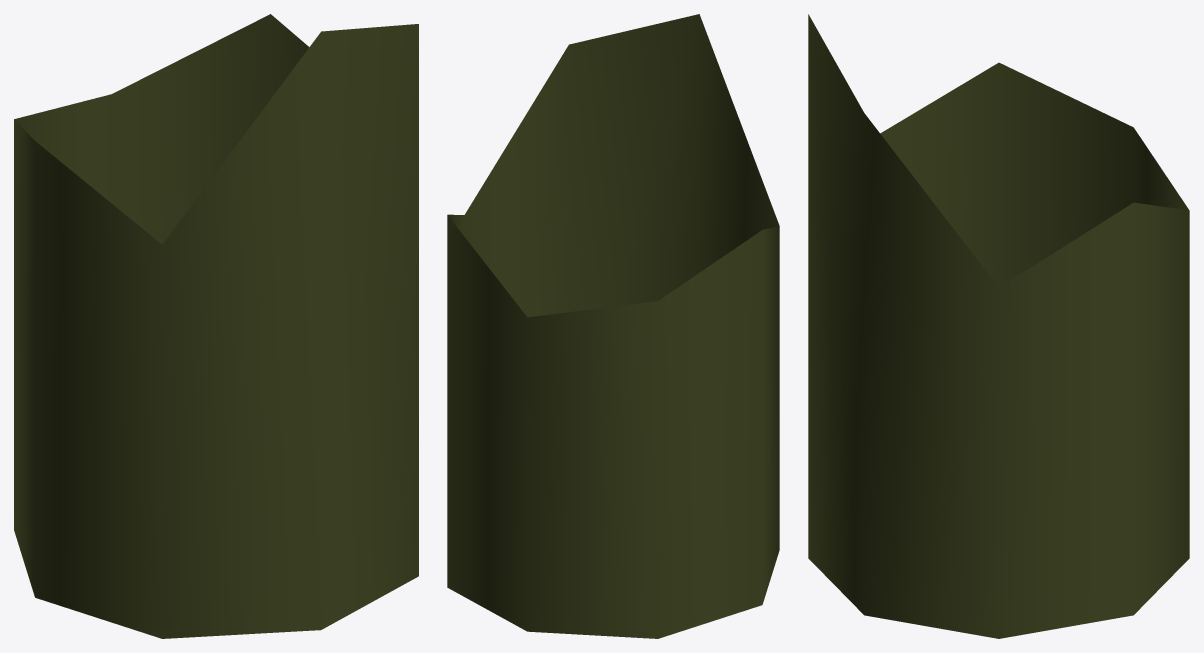
The model's file is TrashBottleBrokenBottom.fbx.
The picture shows the model from 3 angles, left to right: view 1: azimuth 30°, elevation 25°; view 2: azimuth 150°, elevation 25°; view 3: azimuth 270°, elevation 25°; orthographic projection. The views are drawn at different scales.
Visible parts, largest first — view 1: TrashBottleBrokenBottom; view 2: TrashBottleBrokenBottom; view 3: TrashBottleBrokenBottom.
Part boxes in pixels (<box>): TrashBottleBrokenBottom: <box>14,14,418,638</box>; TrashBottleBrokenBottom: <box>447,14,779,638</box>; TrashBottleBrokenBottom: <box>808,14,1189,638</box>.
Bounding box in the file's own units: 9.48 × 14.94 × 9.48.
